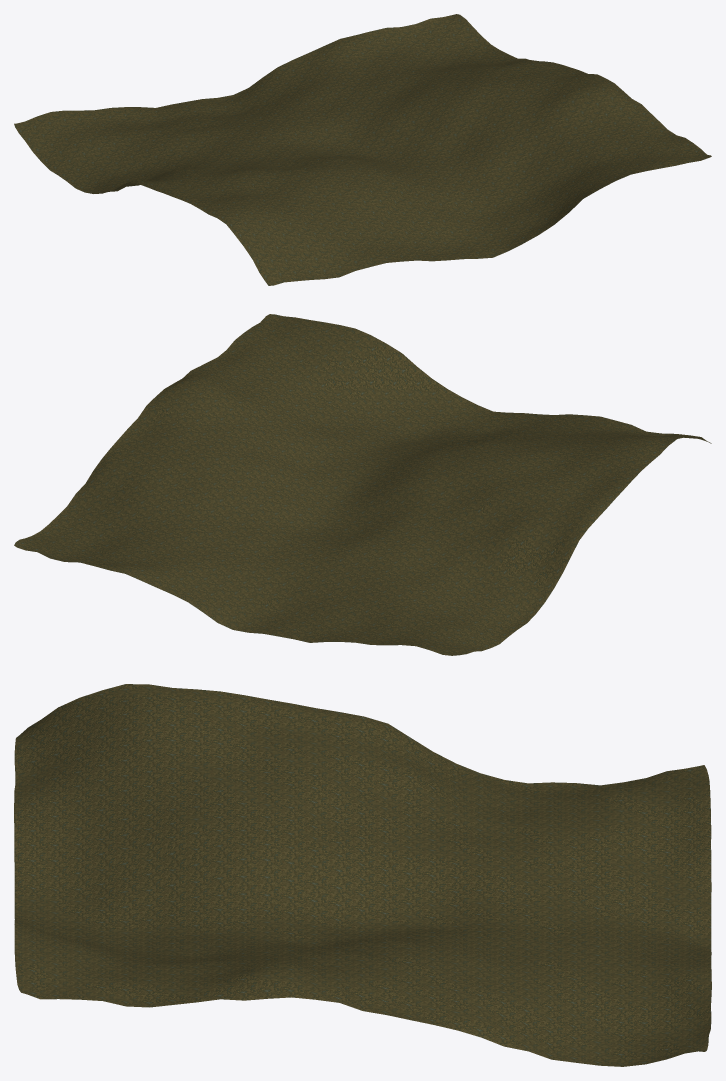
The model's file is terrain_a.fbx.
The picture shows the model from 3 angles, top to bottom: view 1: azimuth 30°, elevation 25°; view 2: azimuth 150°, elevation 25°; view 3: azimuth 270°, elevation 25°; orthographic projection. The views are drawn at different scales.
Parts seen in each view (by area): view 1: TerrainA; view 2: TerrainA; view 3: TerrainA.
Boxes of the visible parts, x1,y1,x2,y2 form: TerrainA: (14, 14, 711, 285); TerrainA: (14, 314, 711, 655); TerrainA: (14, 684, 711, 1066).
Bounding box in the file's own units: 2644 × 480 × 2645.
